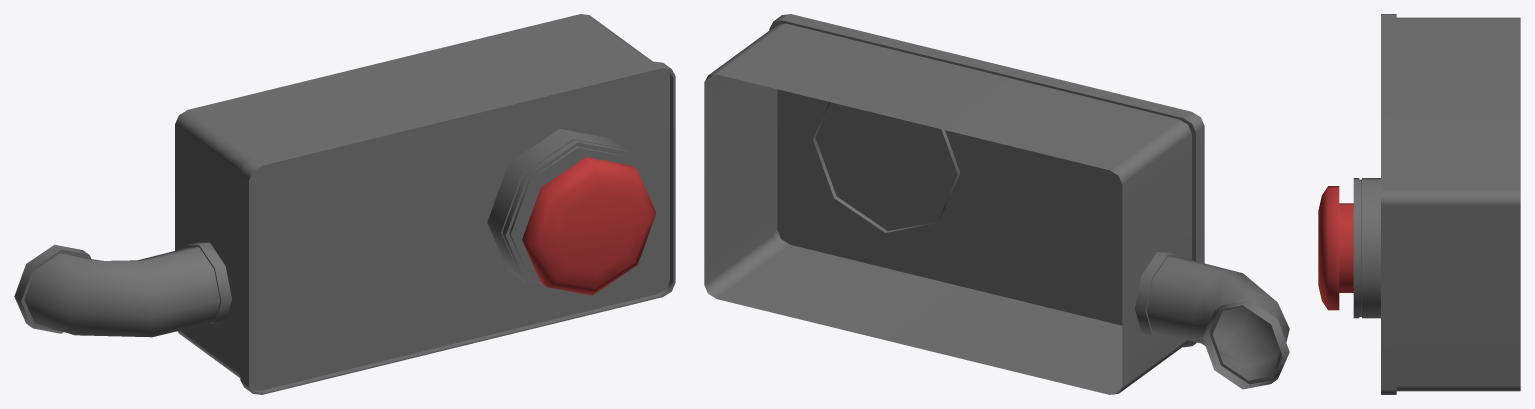
The model's file is TheButton.fbx.
3 renders of one model, left to right at view 1: azimuth 30°, elevation 25°; view 2: azimuth 150°, elevation 25°; view 3: azimuth 270°, elevation 25°, orthographic. The views are drawn at different scales.
Visible parts, largest first — view 1: TheButton; view 2: TheButton; view 3: TheButton.
Part boxes in pixels (x1=…): TheButton: x1=14, y1=14, x2=675, y2=394; TheButton: x1=704, y1=14, x2=1289, y2=394; TheButton: x1=1318, y1=14, x2=1520, y2=394.
Size of the model in its own units: 32.06 by 12.04 by 10.8.
